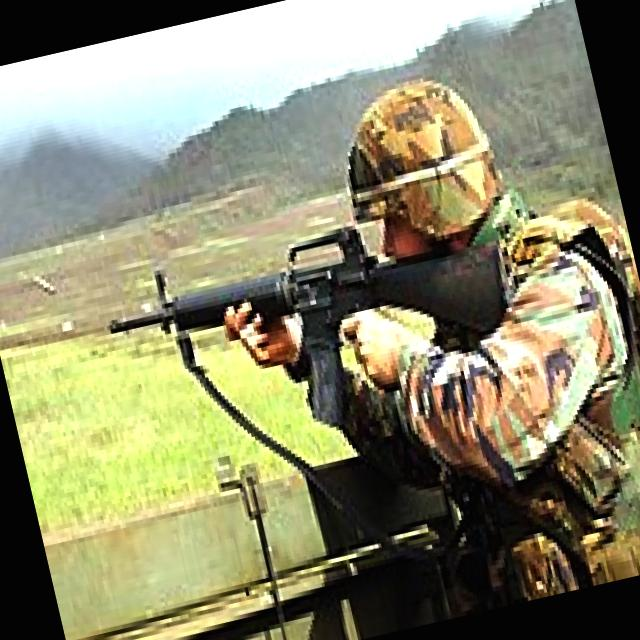m16: (78, 159, 542, 502)
